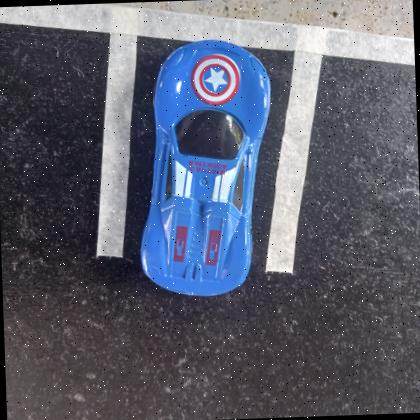Car: (139, 39, 272, 296)
